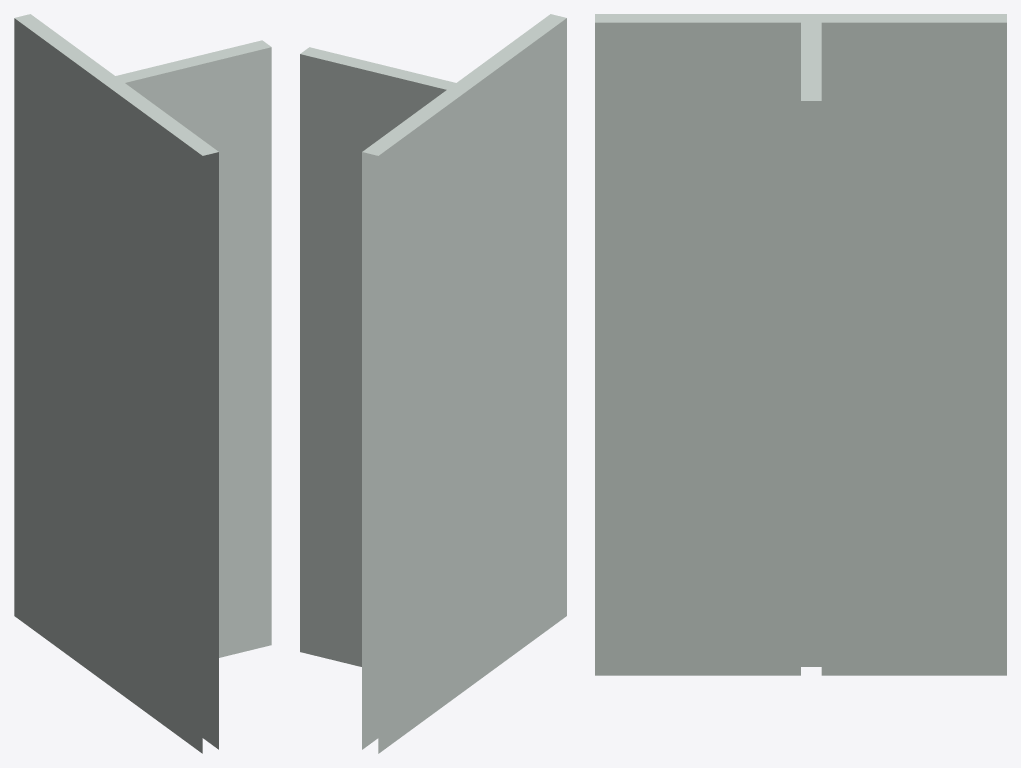
File: SM_Wall_Outer_Corner_A_400.fbx
3 renders of one model, left to right at view 1: azimuth 30°, elevation 25°; view 2: azimuth 150°, elevation 25°; view 3: azimuth 270°, elevation 25°, orthographic. The views are drawn at different scales.
Visible parts, largest first — view 1: SM_Wall_Outer_Corner_A_400; view 2: SM_Wall_Outer_Corner_A_400; view 3: SM_Wall_Outer_Corner_A_400.
Boxes of the visible parts, box(x1,y1,x2,y2) form: SM_Wall_Outer_Corner_A_400: box(14, 14, 271, 753); SM_Wall_Outer_Corner_A_400: box(300, 14, 566, 753); SM_Wall_Outer_Corner_A_400: box(595, 14, 1006, 675).
Bounding box in the file's own units: 200 × 700 × 400.
4 materials, 4 textured.
